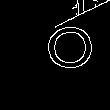O_S: (47, 28, 98, 80)
